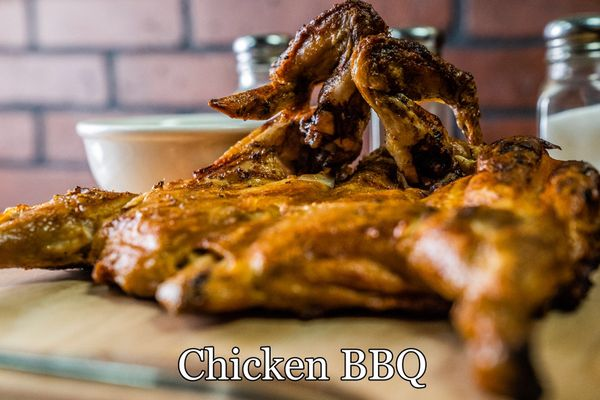sushi: (74, 113, 253, 193)
